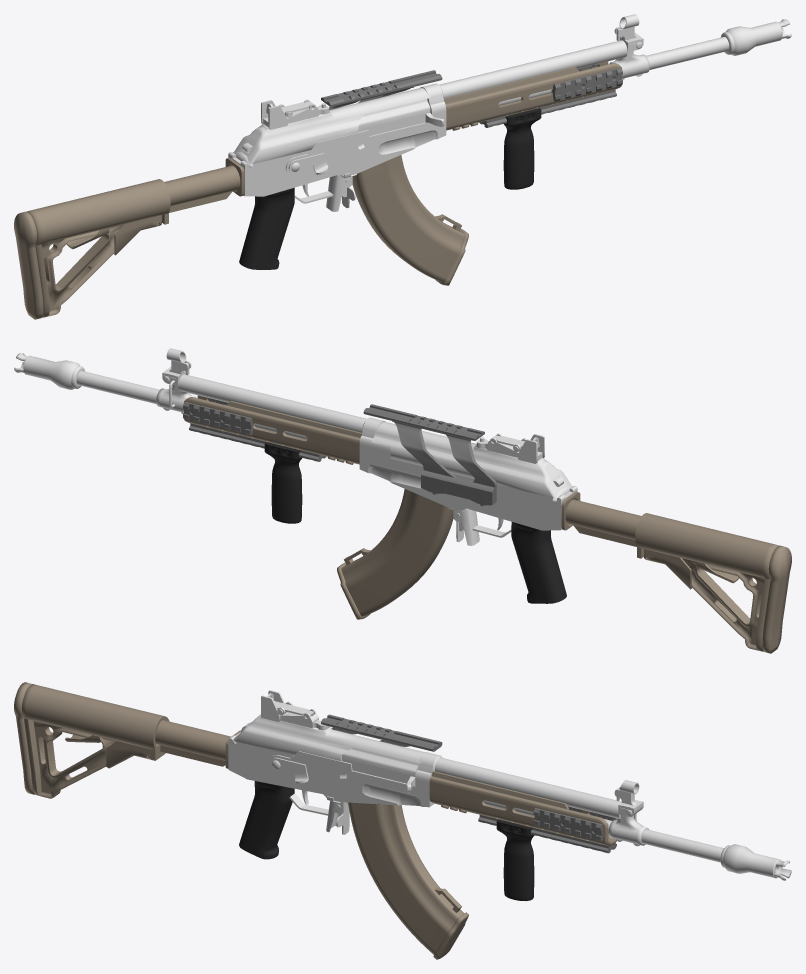
3 views of the same model, one above another, from view 1: azimuth 30°, elevation 25°; view 2: azimuth 150°, elevation 25°; view 3: azimuth 330°, elevation 25° (orthographic).
Parts seen in each view (by area): view 1: rk62m; view 2: rk62m; view 3: rk62m.
Boxes of the visible parts, x1=… form: rk62m: x1=14, y1=14, x2=791, y2=319; rk62m: x1=14, y1=348, x2=791, y2=653; rk62m: x1=14, y1=682, x2=791, y2=959.
Bounding box in the file's own units: 5277 × 1460 × 371.
